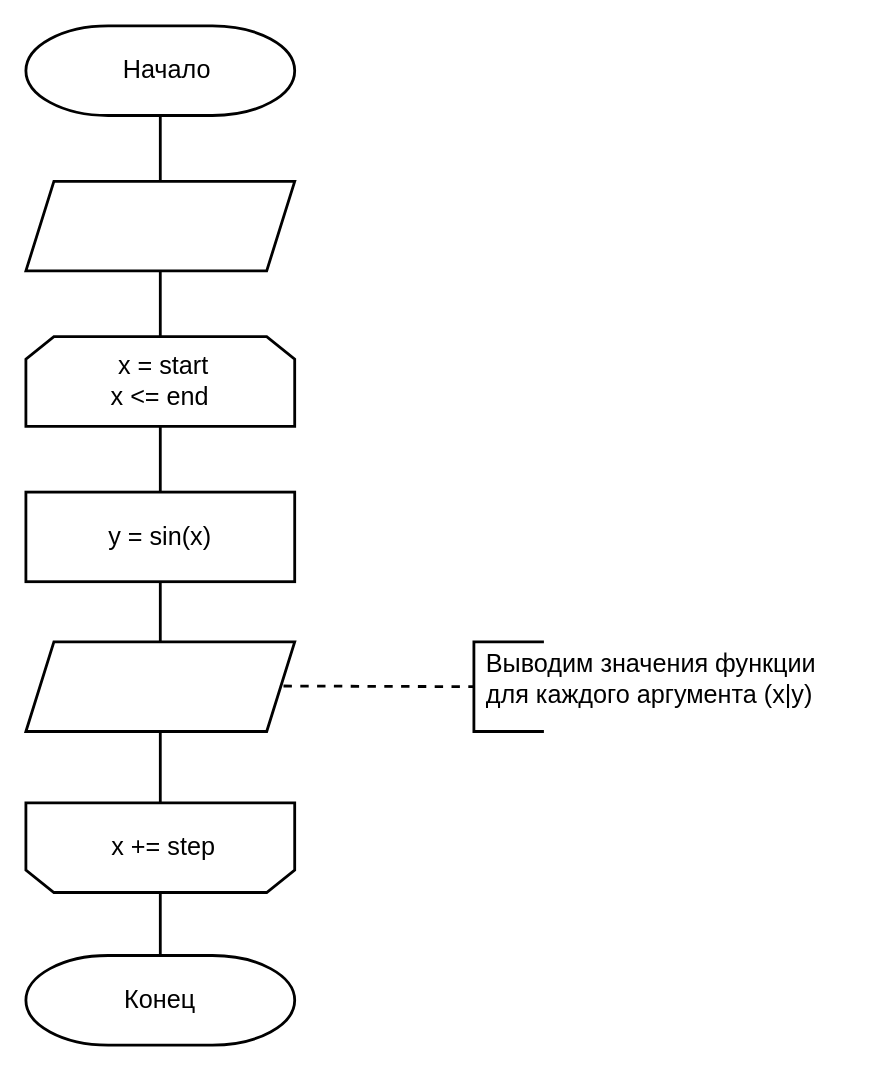
The diagram is 876 pixels wide and 1070 high, and some of its shapes have lost their labels. Each missing label, with the centre of its shape:
start, end, step: the point at 159,225
Вывод x, y: the point at 159,686
